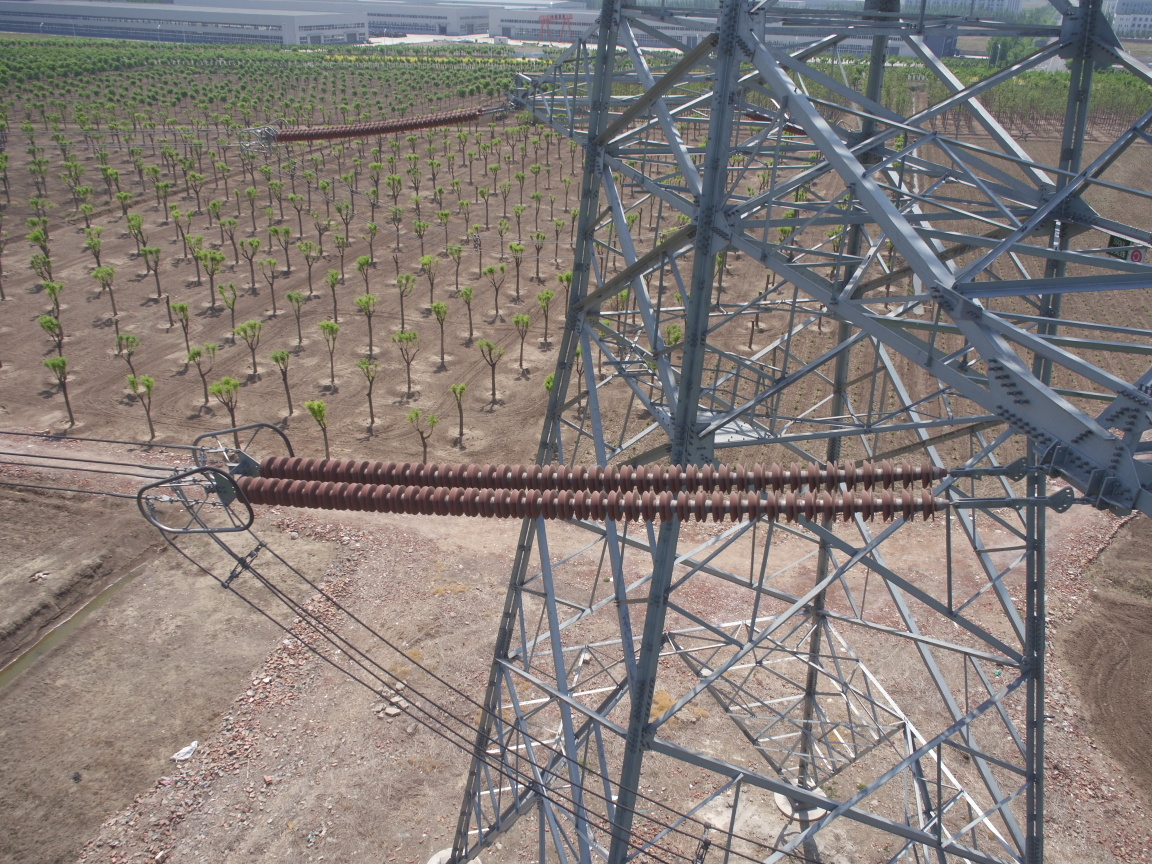insulator: (222, 450, 994, 524), (265, 101, 496, 145)
